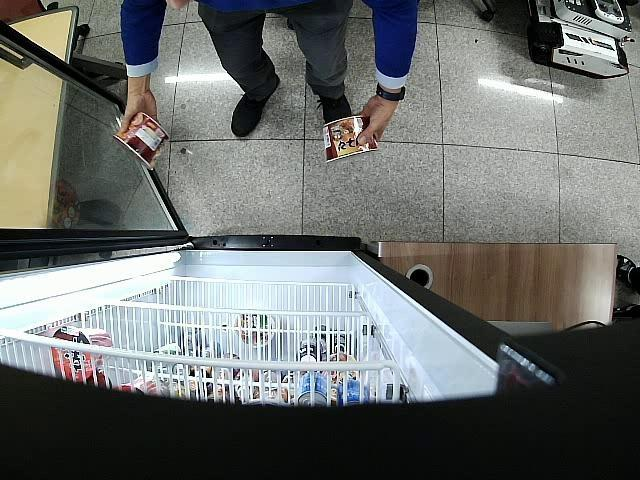05_nuguri_L: (113, 112, 169, 170), (322, 116, 378, 162)
